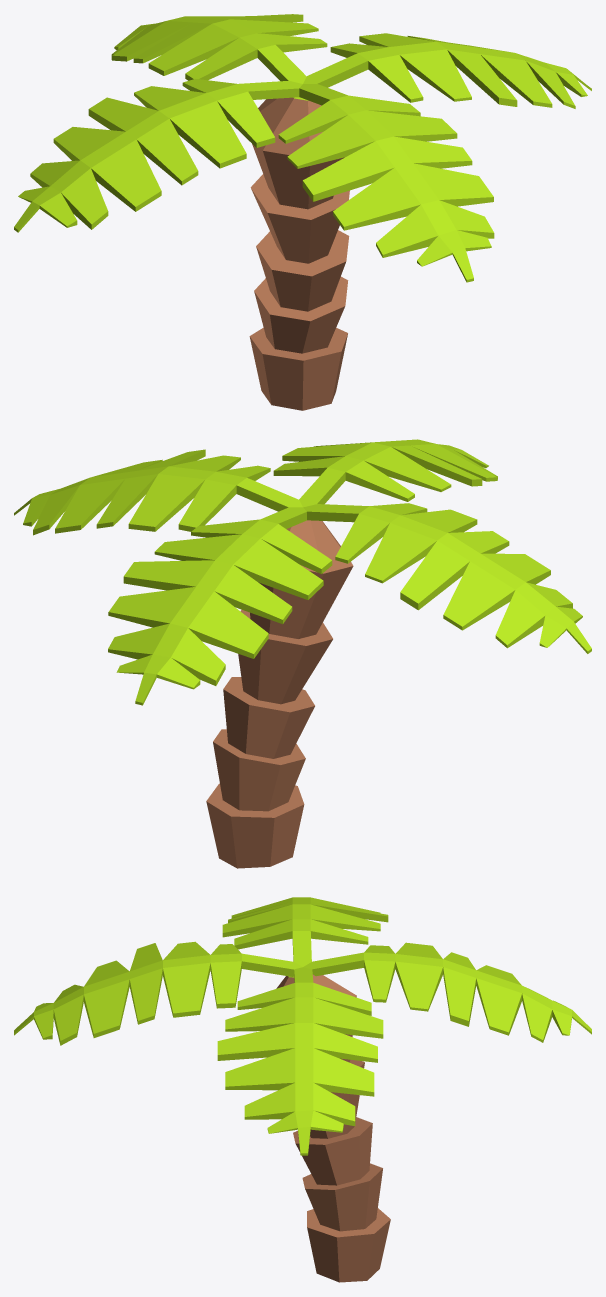
Rendered from SmallPalmTree.glb.
The picture shows the model from 3 angles, top to bottom: view 1: azimuth 30°, elevation 25°; view 2: azimuth 150°, elevation 25°; view 3: azimuth 270°, elevation 25°; orthographic projection. The views are drawn at different scales.
Parts seen in each view (by area): view 1: SmallPalmTree; view 2: SmallPalmTree; view 3: SmallPalmTree.
Part boxes in pixels (x1,y1,x2,y2): SmallPalmTree: (14, 14, 591, 410); SmallPalmTree: (14, 439, 591, 868); SmallPalmTree: (14, 897, 591, 1282).
Bounding box in the file's own units: 4.14 × 2.4 × 4.14.
Materials: 1 (1 with a texture image).
